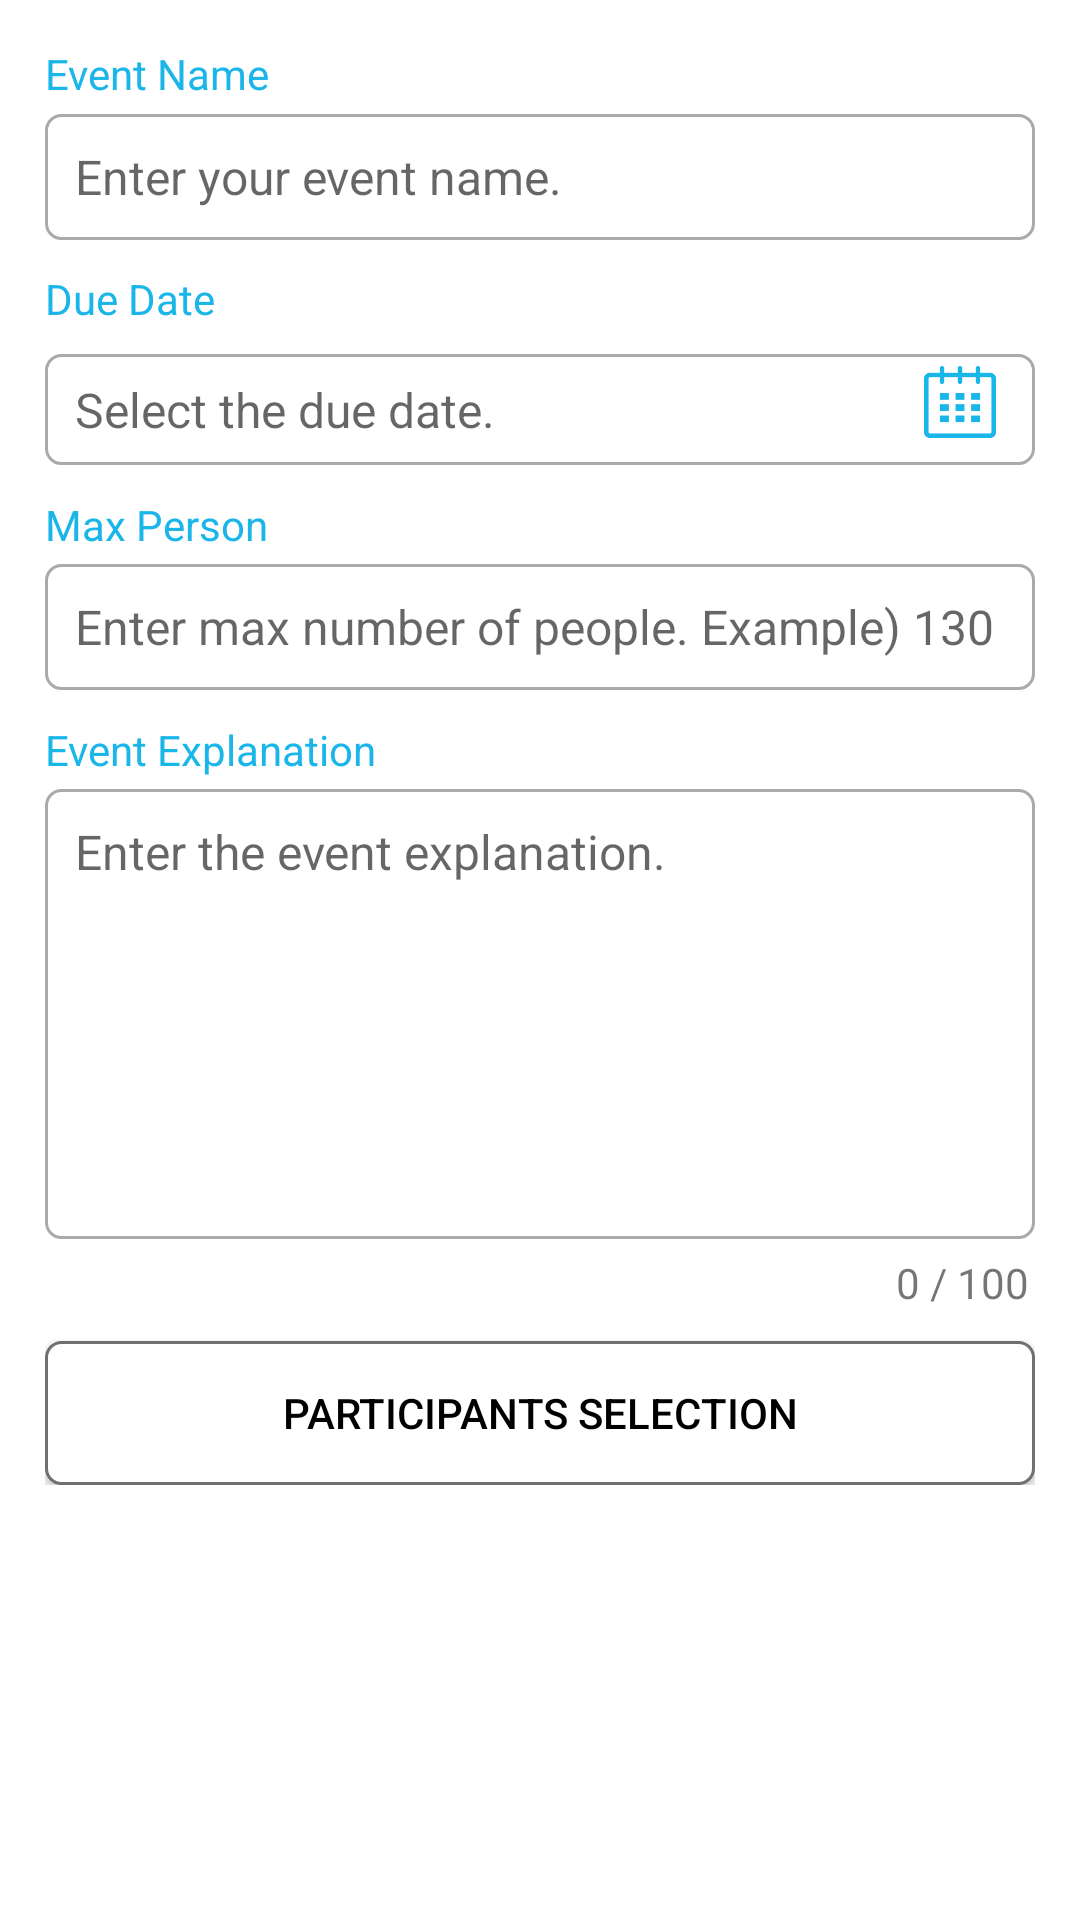

Screen size 1080px×1920px. Icon name, then its box in pixels as {"x1": x1, "y1": y1, "x2": x2, "y2": y2}:
calendar: {"x1": 924, "y1": 366, "x2": 996, "y2": 438}
